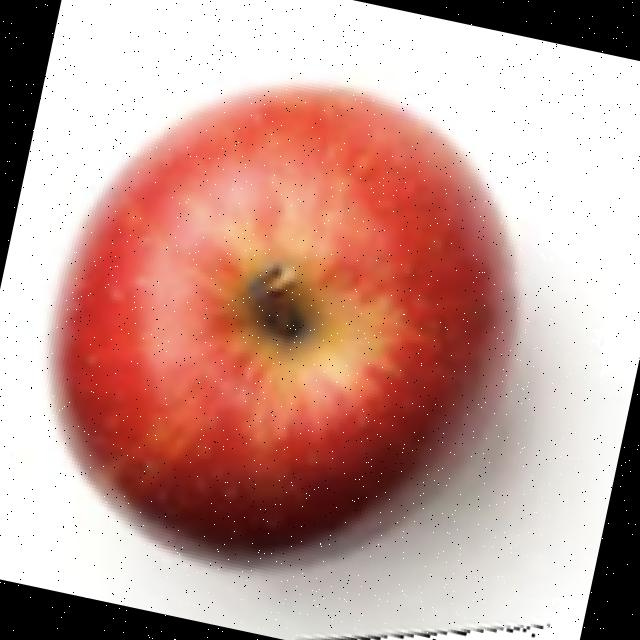apple: (37, 73, 570, 625)
